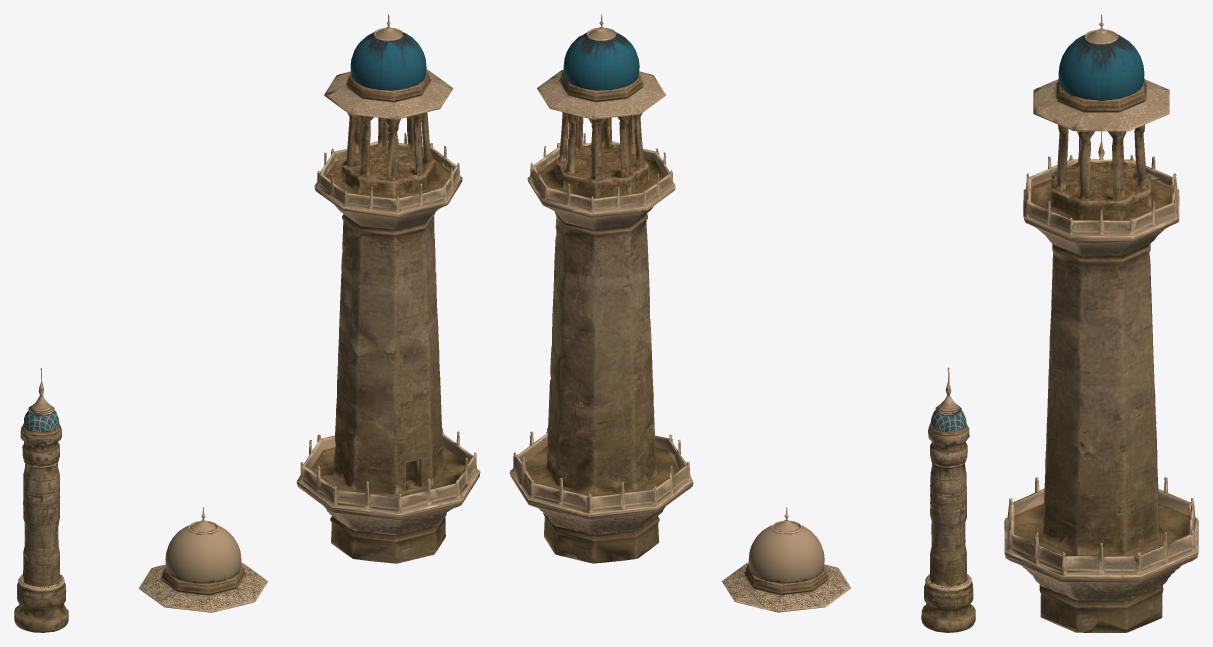
Rendered from towers.glb.
The picture shows the model from 3 angles, left to right: view 1: azimuth 30°, elevation 25°; view 2: azimuth 150°, elevation 25°; view 3: azimuth 270°, elevation 25°; orthographic projection. The views are drawn at different scales.
Parts seen in each view (by area): view 1: DesertTemple_Tower_Medium_01.001_Tower_Medium_01_0, DesertTemple_Pillar_Bulb_01_Pillar_Bulb_01_0, DesertTemple_Tower_Medium_01_Tower_Dome_01_0; view 2: DesertTemple_Tower_Medium_01.001_Tower_Medium_01_0, DesertTemple_Pillar_Bulb_01_Pillar_Bulb_01_0, DesertTemple_Tower_Medium_01_Tower_Dome_01_0; view 3: DesertTemple_Tower_Medium_01.001_Tower_Medium_01_0.
Part boxes in pixels (x1,y1,x2,y2): DesertTemple_Tower_Medium_01.001_Tower_Medium_01_0: [296, 14, 480, 563]; DesertTemple_Pillar_Bulb_01_Pillar_Bulb_01_0: [14, 368, 68, 632]; DesertTemple_Tower_Medium_01_Tower_Dome_01_0: [139, 507, 267, 612]; DesertTemple_Tower_Medium_01.001_Tower_Medium_01_0: [509, 14, 693, 563]; DesertTemple_Pillar_Bulb_01_Pillar_Bulb_01_0: [921, 367, 975, 632]; DesertTemple_Tower_Medium_01_Tower_Dome_01_0: [722, 507, 851, 612]; DesertTemple_Tower_Medium_01.001_Tower_Medium_01_0: [1004, 14, 1198, 632].
Bounding box in the file's own units: 19.23 × 21.76 × 6.44.
3 materials, 3 textured.
